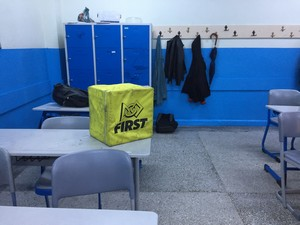cube: (87, 83, 154, 145)
